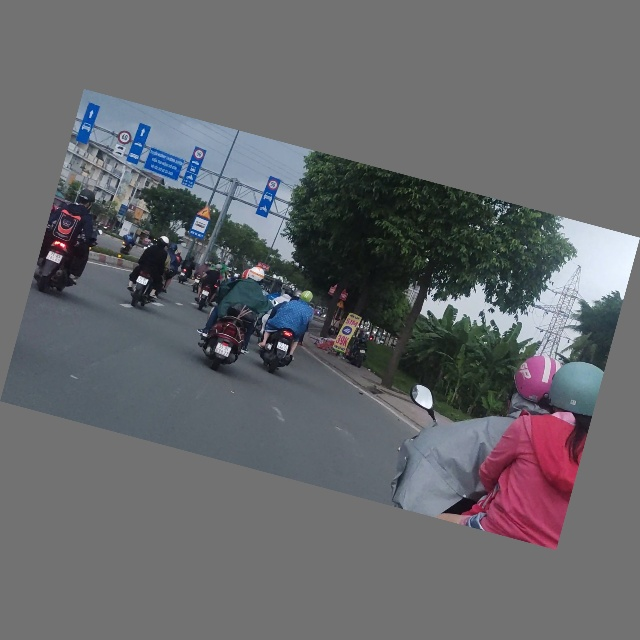I.434a: (188, 216, 210, 240)
P.127*50: (266, 179, 280, 192), (193, 148, 206, 161)
P.127*60: (116, 129, 133, 146)
S.505a*Xe tai va cong: (112, 144, 127, 158)
W.201b: (196, 204, 214, 221)
